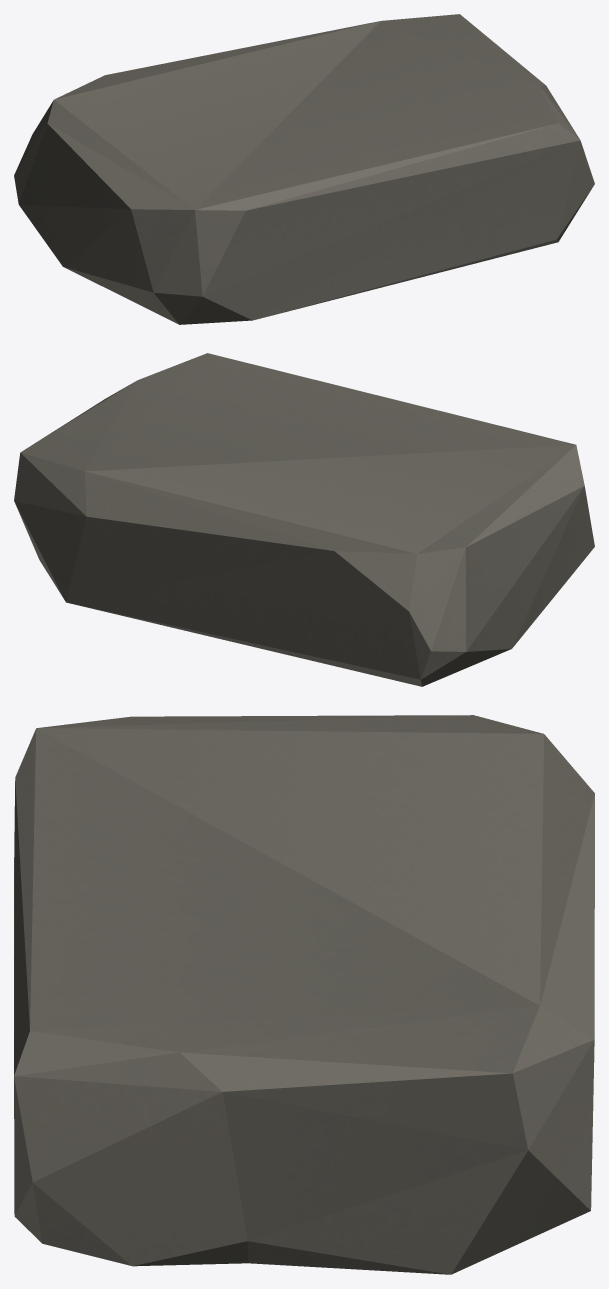
Rendered from Stair_4A.fbx.
3 views of the same model, one above another, from view 1: azimuth 30°, elevation 25°; view 2: azimuth 150°, elevation 25°; view 3: azimuth 270°, elevation 25° (orthographic). The views are drawn at different scales.
Parts seen in each view (by area): view 1: Group26652; view 2: Group26652; view 3: Group26652.
Part boxes in pixels (x1,y1,x2,y2): Group26652: [14, 14, 594, 324]; Group26652: [14, 353, 594, 686]; Group26652: [14, 715, 594, 1274].
Bounding box in the file's own units: 151 × 40.04 × 100.
Materials: 1 (1 with a texture image).
